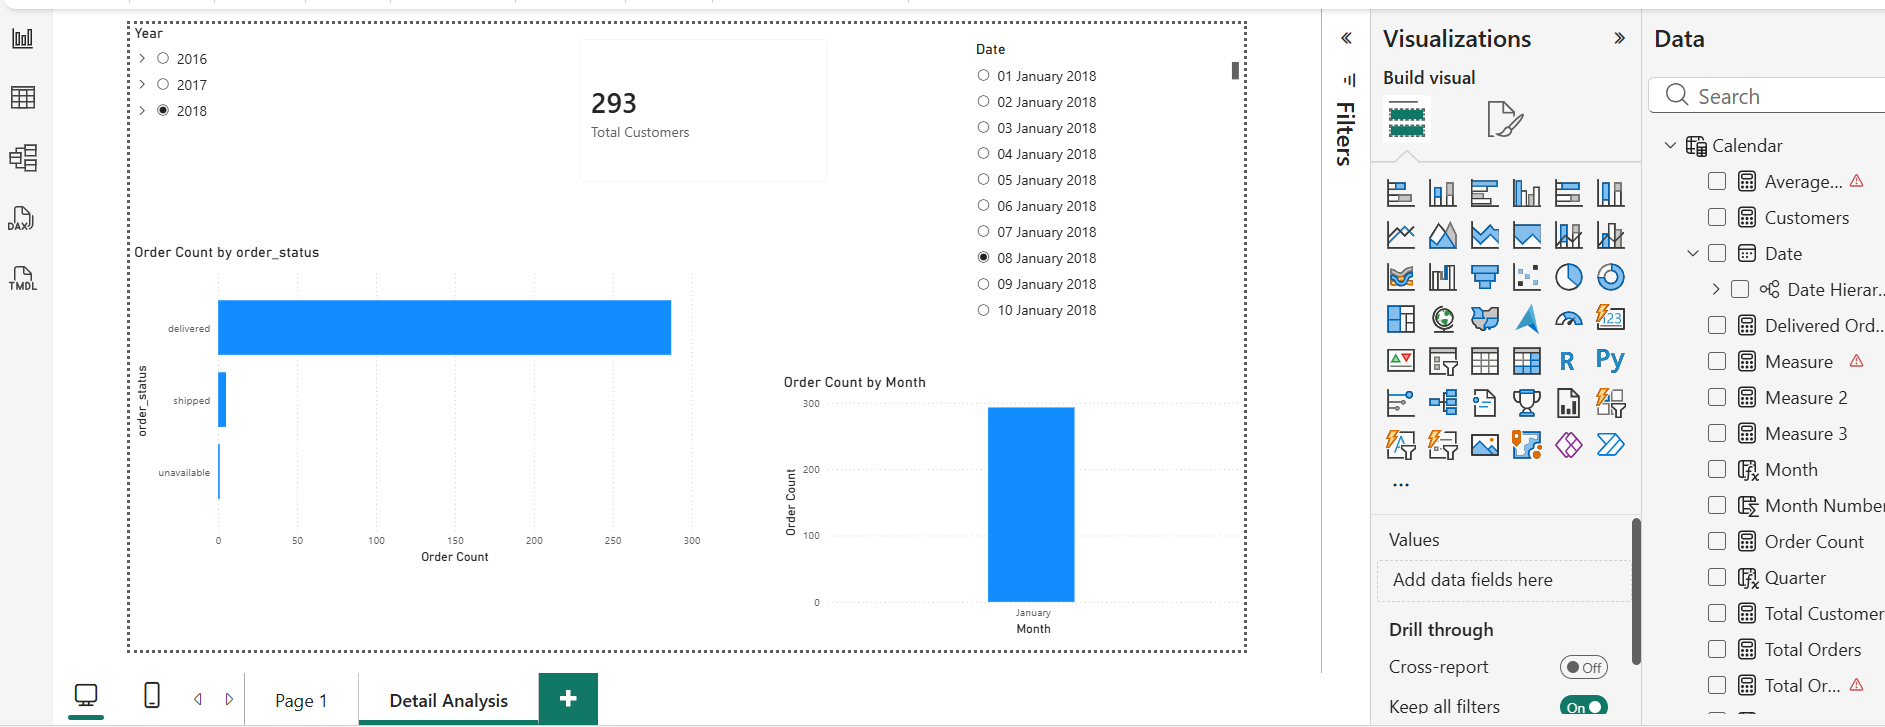

Layout of this report page (visuals, bound fields, positions):
{"tool":"powerbi","page":{"name":"Detail Analysis","canvas":[1280,720],"ordinal":1},"visuals":[{"type":"listSlicer","fields":{"Values":["cleaned_olist_orders_dataset.Date.Variation.Date Hierarchy.Year"]},"box":[10,0,312.9,324.3],"z":0},{"type":"clusteredBarChart","fields":{"Category":["cleaned_olist_orders_dataset.order_status"],"Y":["Calendar.Order Count"]},"box":[371.4,0,388.6,227.1],"z":1000},{"type":"clusteredColumnChart","fields":{"Category":["Calendar.Month"],"Y":["Calendar.Order Count"]},"box":[542.9,267.1,322.9,261.4],"z":2000},{"type":"cardVisual","fields":{"Data":["Calendar.Total Customers"]},"box":[0,342.9,201.4,168.6],"z":3000},{"type":"listSlicer","fields":{"Values":["Calendar.Date.Variation.Date Hierarchy.Year","Calendar.Date.Variation.Date Hierarchy.Quarter","Calendar.Date.Variation.Date Hierarchy.Month","Calendar.Date.Variation.Date Hierarchy.Day"]},"box":[217.1,398.6,274.3,171.4],"z":3001}]}

Visuals, with their boxes on the page's 1280x720 design canvas (x1, y1, x2, y2). These are canvas units, not pixel positions in the 1885x727 screenshot, which may show the page scaled, cropped or inside an application window:
listSlicer - cleaned_olist_orders_dataset.Date.Variation.Date Hierarchy.Year: select_region(10, 0, 323, 324)
clusteredBarChart - cleaned_olist_orders_dataset.order_status x Calendar.Order Count: select_region(371, 0, 760, 227)
clusteredColumnChart - Calendar.Month x Calendar.Order Count: select_region(543, 267, 866, 528)
cardVisual - Calendar.Total Customers: select_region(0, 343, 201, 512)
listSlicer - Calendar.Date.Variation.Date Hierarchy.Year x Calendar.Date.Variation.Date Hierarchy.Quarter: select_region(217, 399, 491, 570)
